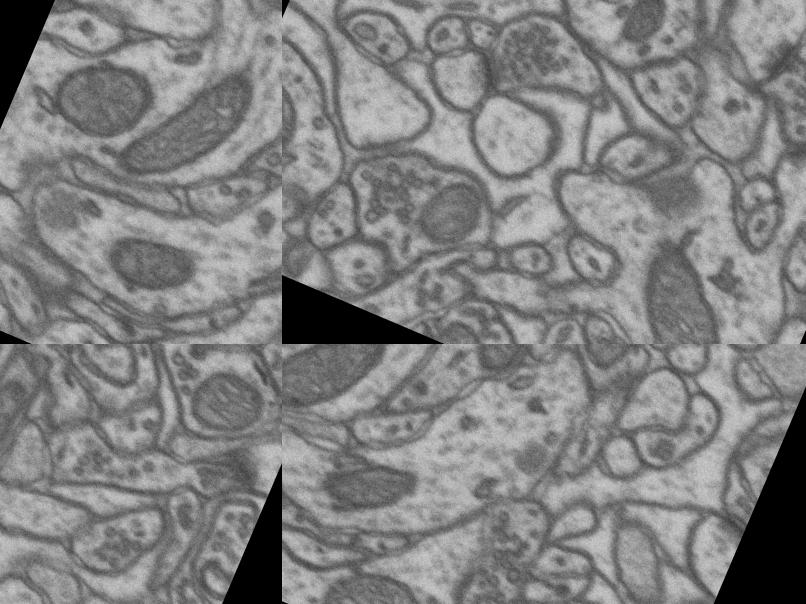mitochondria: (110, 36, 268, 219), (582, 192, 756, 344), (36, 34, 172, 166), (282, 344, 400, 450), (306, 437, 425, 542), (91, 216, 206, 315), (382, 168, 484, 278), (183, 356, 275, 445), (311, 549, 449, 604), (0, 359, 45, 476), (282, 62, 315, 180), (608, 0, 685, 41), (563, 344, 651, 378), (463, 344, 537, 384), (423, 306, 494, 344)
